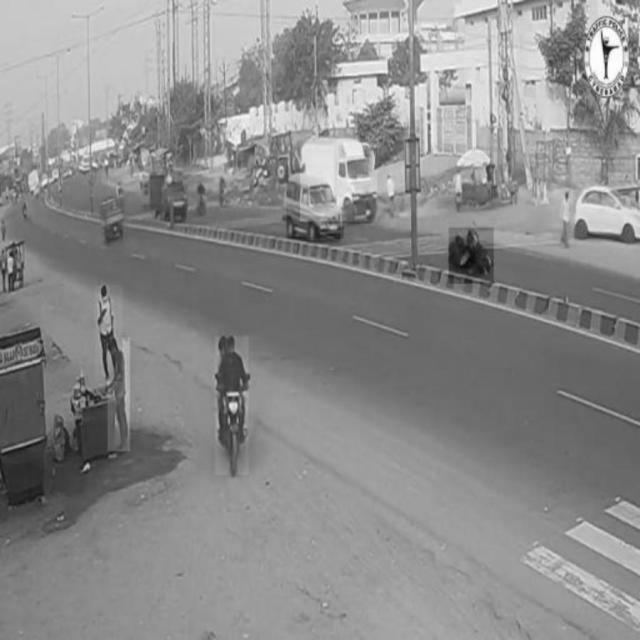accident: (450, 228, 495, 284)
person: (107, 338, 131, 451), (96, 285, 123, 381)
vehicle: (300, 143, 377, 221), (215, 336, 249, 474), (287, 175, 344, 239), (574, 189, 640, 243)
